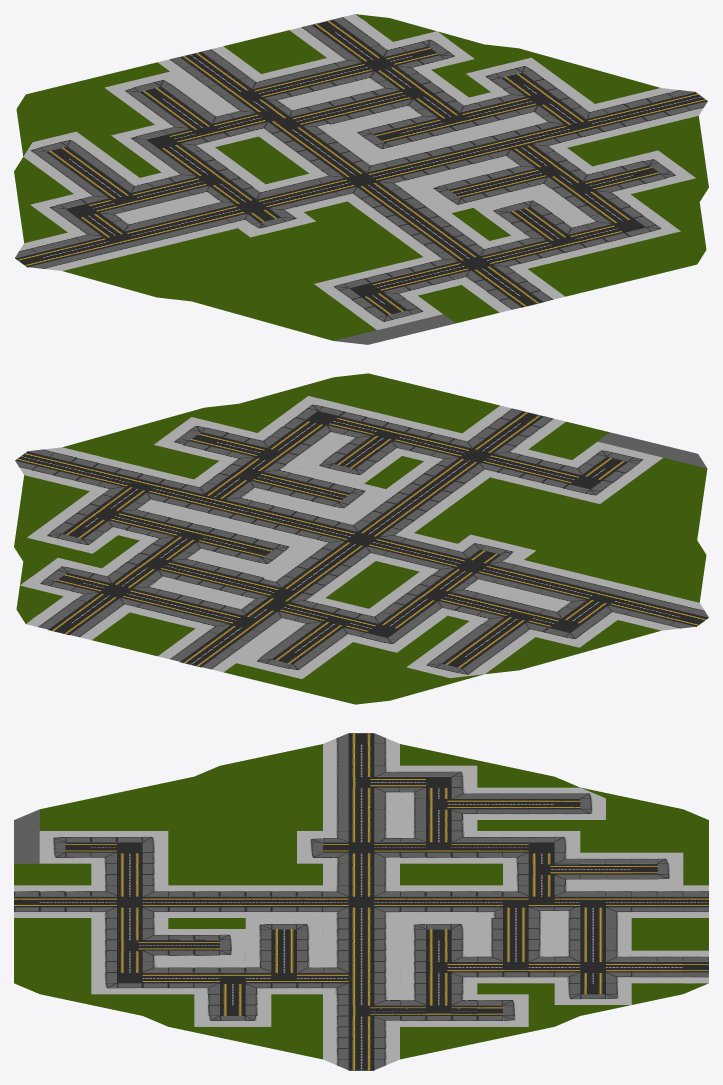
File: Street8.fbx
3 views of the same model, one above another, from view 1: azimuth 30°, elevation 25°; view 2: azimuth 150°, elevation 25°; view 3: azimuth 270°, elevation 25° (orthographic).
Visible parts, largest first — view 1: pPlane19; view 2: pPlane19; view 3: pPlane19.
Part boxes in pixels (left/top/right/bottom): pPlane19: left=14, top=14, right=708, bottom=344; pPlane19: left=14, top=373, right=708, bottom=704; pPlane19: left=14, top=733, right=708, bottom=1070.
Bounding box in the file's own units: 490 × 0.3449 × 427.
